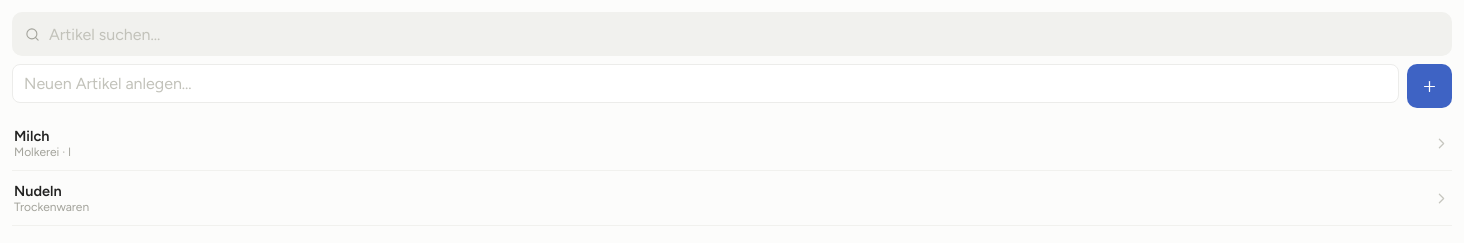
Test case: CatalogBrowser › says so when the search matches nothing
In the search field labelled "Artikel suchen": (744, 34) [49, 14, 1439, 54], type "Zelt"
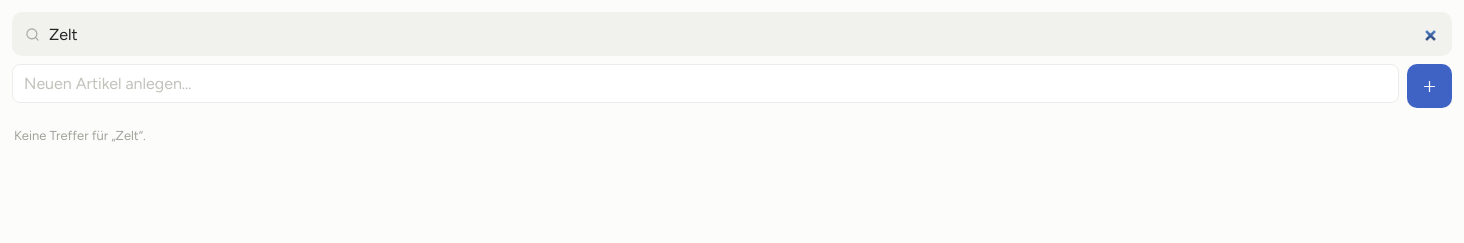
Check: the text "Keine Treffer für „Zelt“." is shown, box [14, 128, 146, 143]
